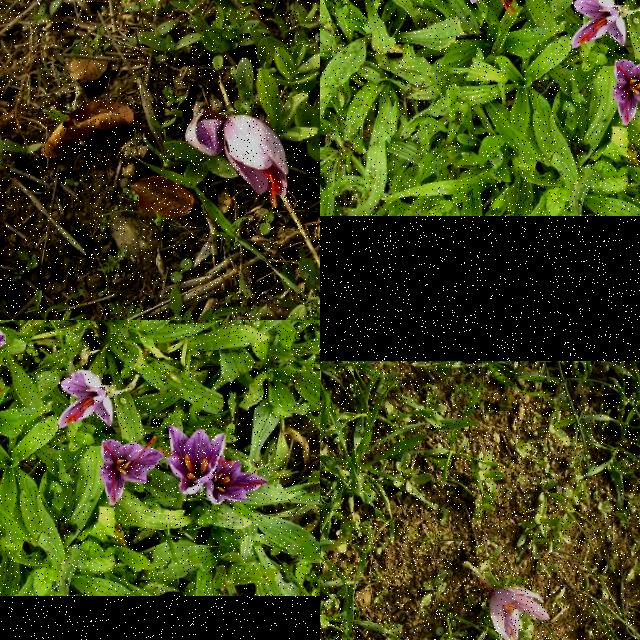flower: (184, 110, 290, 208), (158, 426, 232, 496), (102, 438, 162, 507), (56, 370, 114, 428), (207, 452, 269, 506), (489, 586, 551, 640), (569, 0, 626, 48), (615, 57, 640, 126)
